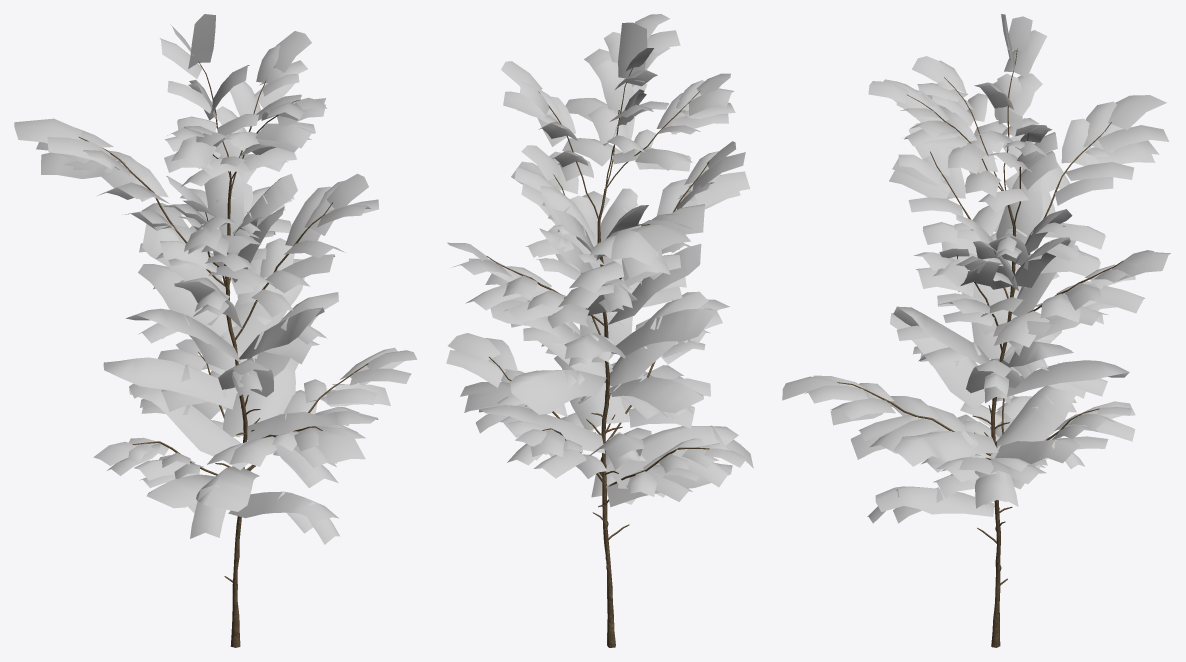
File: Tree_Small1_LOD0.fbx
3 views of the same model, side by side, from view 1: azimuth 30°, elevation 25°; view 2: azimuth 150°, elevation 25°; view 3: azimuth 270°, elevation 25° (orthographic). The views are drawn at different scales.
Visible parts, largest first — view 1: polySurface6; view 2: polySurface6; view 3: polySurface6.
Boxes of the visible parts, left/top/right/bottom form: polySurface6: left=14, top=14, right=417, bottom=647; polySurface6: left=446, top=14, right=753, bottom=647; polySurface6: left=782, top=14, right=1170, bottom=647.
Size of the model in its own units: 241 by 463 by 264.
